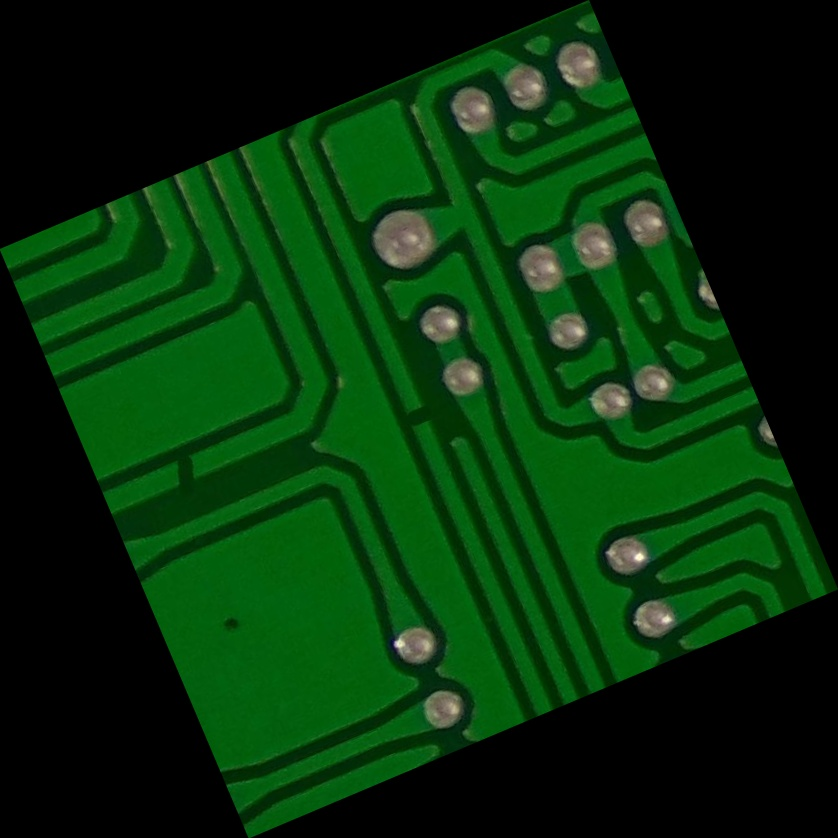open_circuit: (394, 393, 444, 446)
